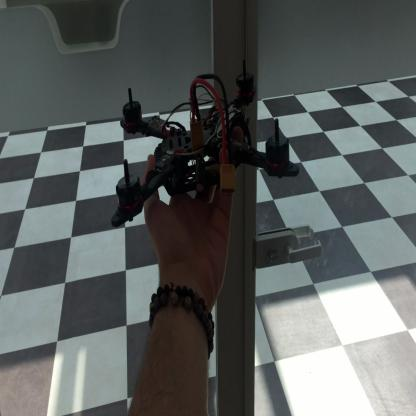drone: (106, 60, 304, 232)
